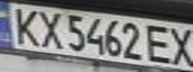2: (118, 19, 145, 61)
4: (81, 16, 106, 55)
5: (60, 12, 87, 52)
6: (103, 17, 124, 57)
E: (142, 21, 175, 64)
K: (6, 4, 42, 46)
X: (33, 8, 66, 50), (166, 24, 193, 67)
